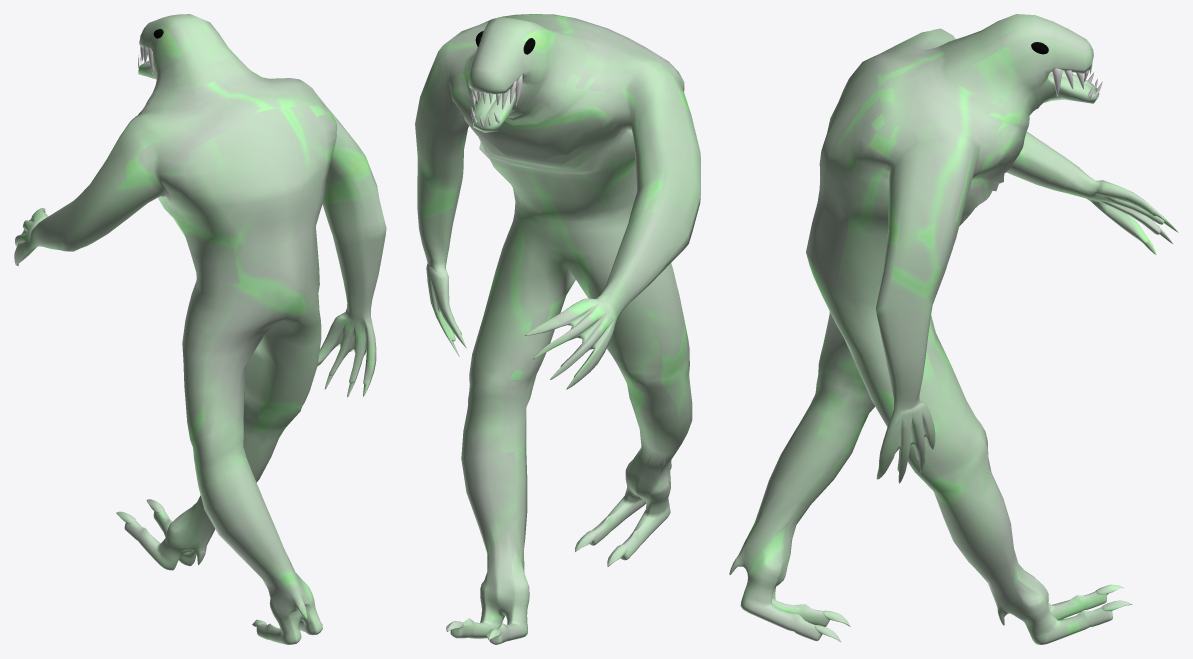
Rendered from Berserkerandar.0058.obj.
3 renders of one model, left to right at view 1: azimuth 30°, elevation 25°; view 2: azimuth 150°, elevation 25°; view 3: azimuth 270°, elevation 25°, orthographic. The views are drawn at different scales.
Parts seen in each view (by area): view 1: polySurface27; view 2: polySurface27; view 3: polySurface27.
Boxes of the visible parts, <box> form: polySurface27: <box>14,14,386,644</box>; polySurface27: <box>415,14,700,644</box>; polySurface27: <box>729,14,1178,644</box>.
Size of the model in its own units: 12.03 by 23.13 by 15.21.
1 material, 1 textured.
